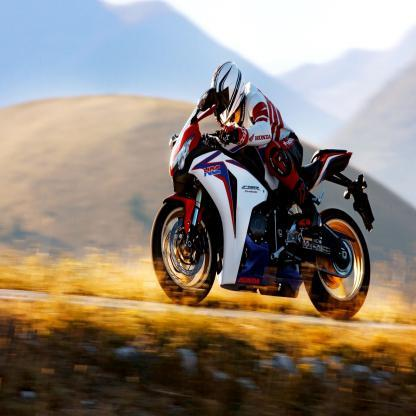Motorcycle: (147, 94, 380, 321)
